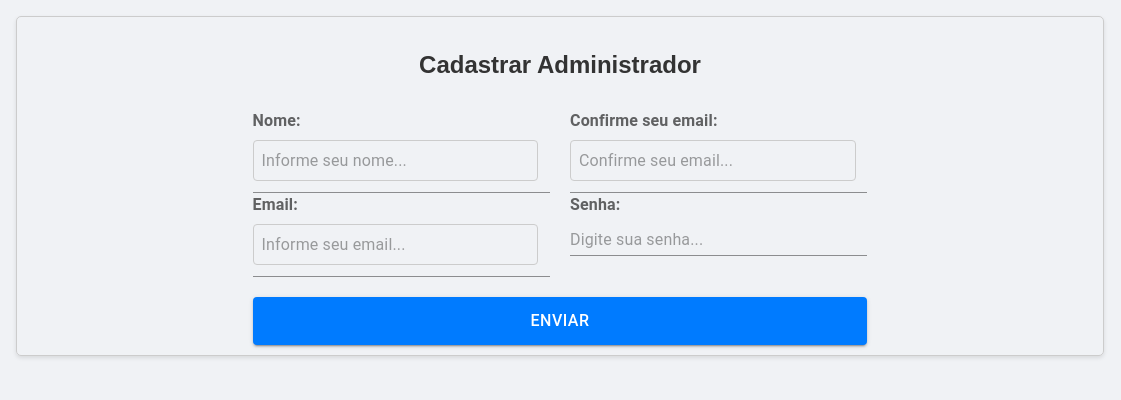
Test: Testes Formulário p/ Cadastro de Admins › Valida se os emails preenchidos são iguais.
# Simula preenchimento dos campos
Type "teste@example.com" into the field with placeholder "Informe seu email..." at (395, 244), box left=253, top=224, right=538, bottom=265
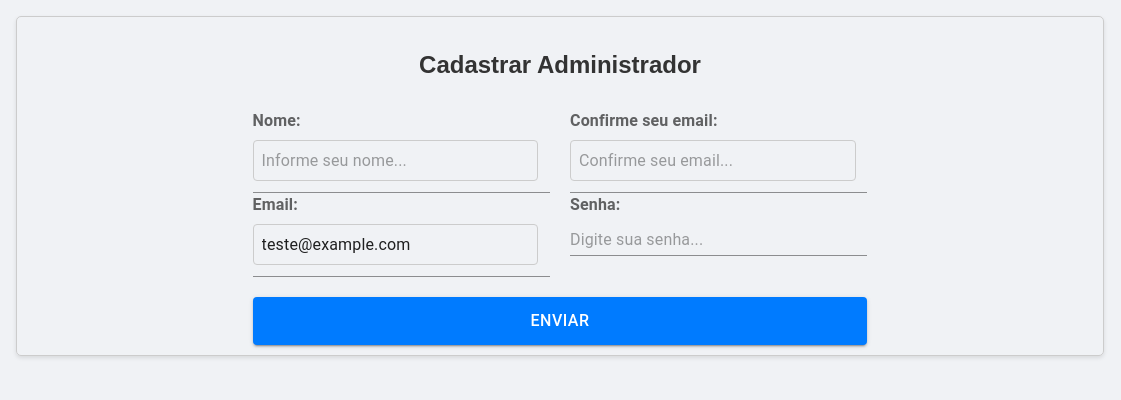
Type "123456@example.com" into the field with placeholder "Confirme seu email..." at (713, 160), box left=570, top=140, right=856, bottom=181
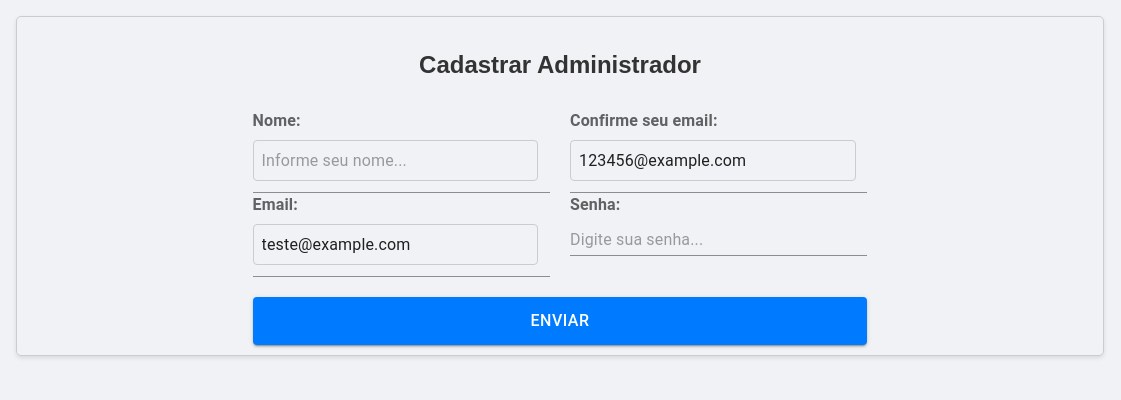
# Simula ação no botão de enviar
Click the button "Enviar" at (560, 321), box left=253, top=297, right=867, bottom=345
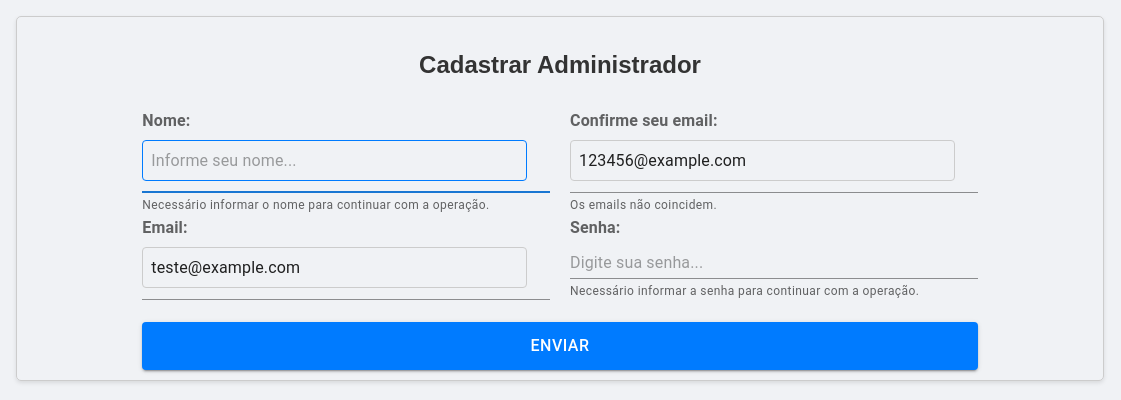
Now the text "Necessário informar o nome para continuar com a operação." is shown, box left=142, top=196, right=550, bottom=216
Now the text "Os emails não coincidem." is shown, box left=570, top=198, right=717, bottom=212
Now the text "Necessário informar a senha para continuar com a operação." is shown, box left=570, top=282, right=978, bottom=302
